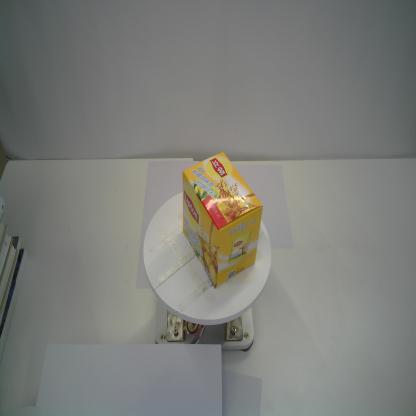Instant Drink: (182, 151, 263, 289)
